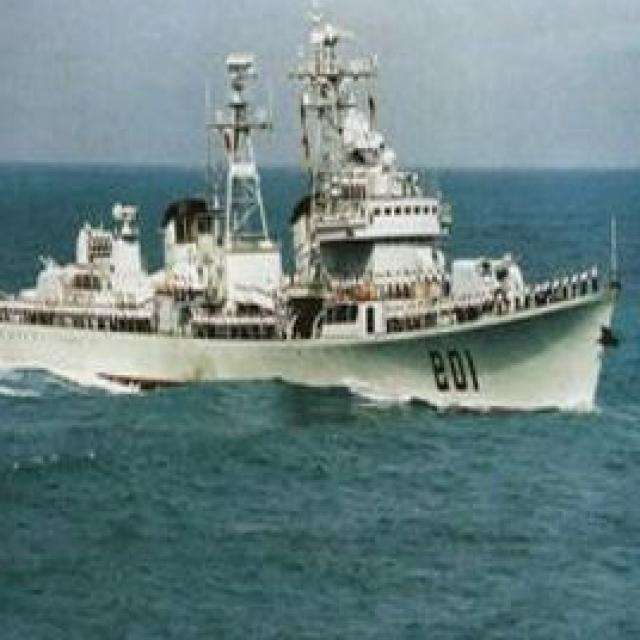navalvessels: (0, 14, 631, 408)
